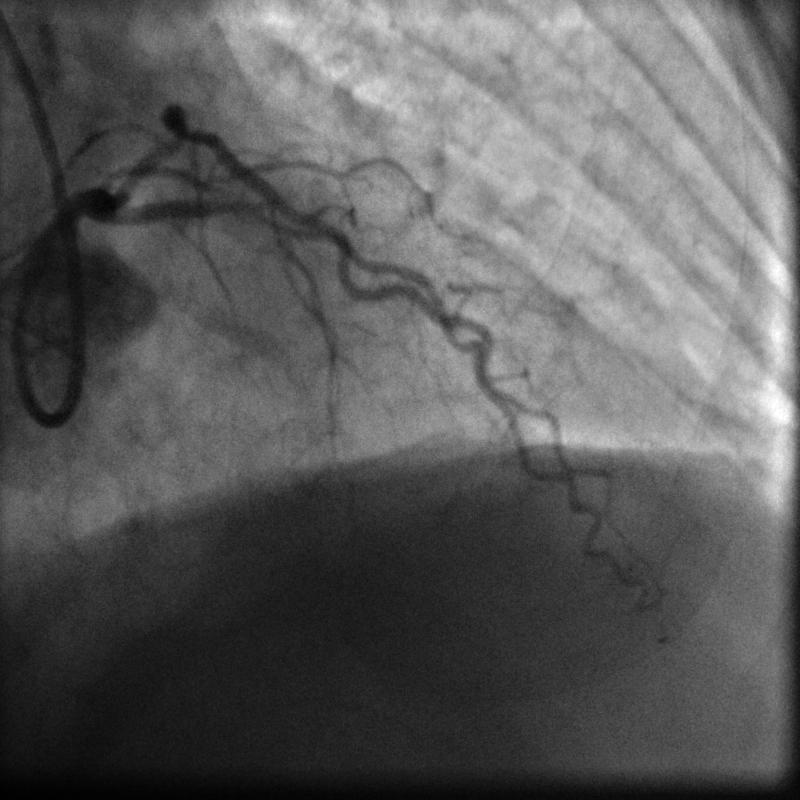Stenosis: (232, 194, 285, 238)
